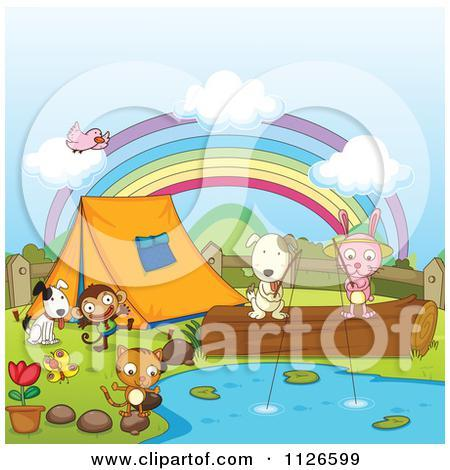bird: (64, 121, 111, 155)
cat: (99, 345, 168, 418)
dog: (243, 232, 301, 321), (21, 277, 73, 346)
pottedplant: (7, 360, 42, 436)
